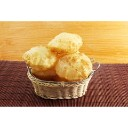poori: (57, 53, 91, 80), (49, 31, 83, 55), (24, 46, 57, 70)
